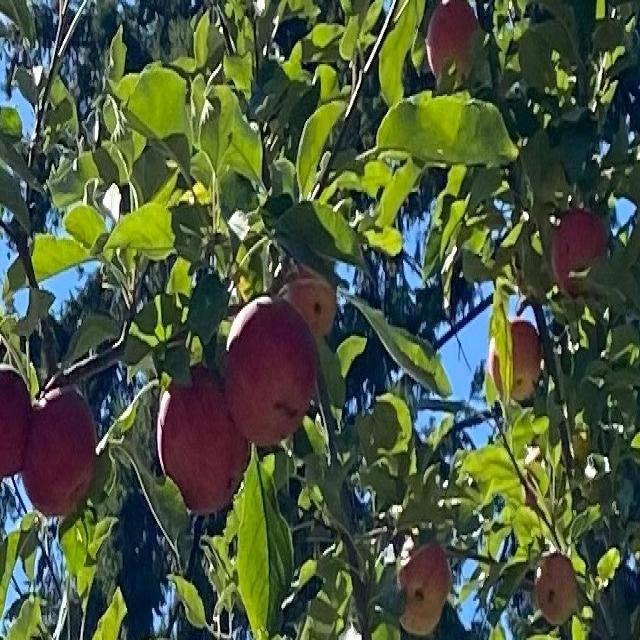100-_ripeness: (228, 293, 315, 439), (159, 362, 245, 508), (25, 384, 97, 516), (397, 541, 451, 631), (555, 204, 608, 294), (490, 318, 541, 400), (429, 0, 477, 84), (0, 366, 33, 478), (287, 265, 335, 336), (535, 550, 576, 622)
